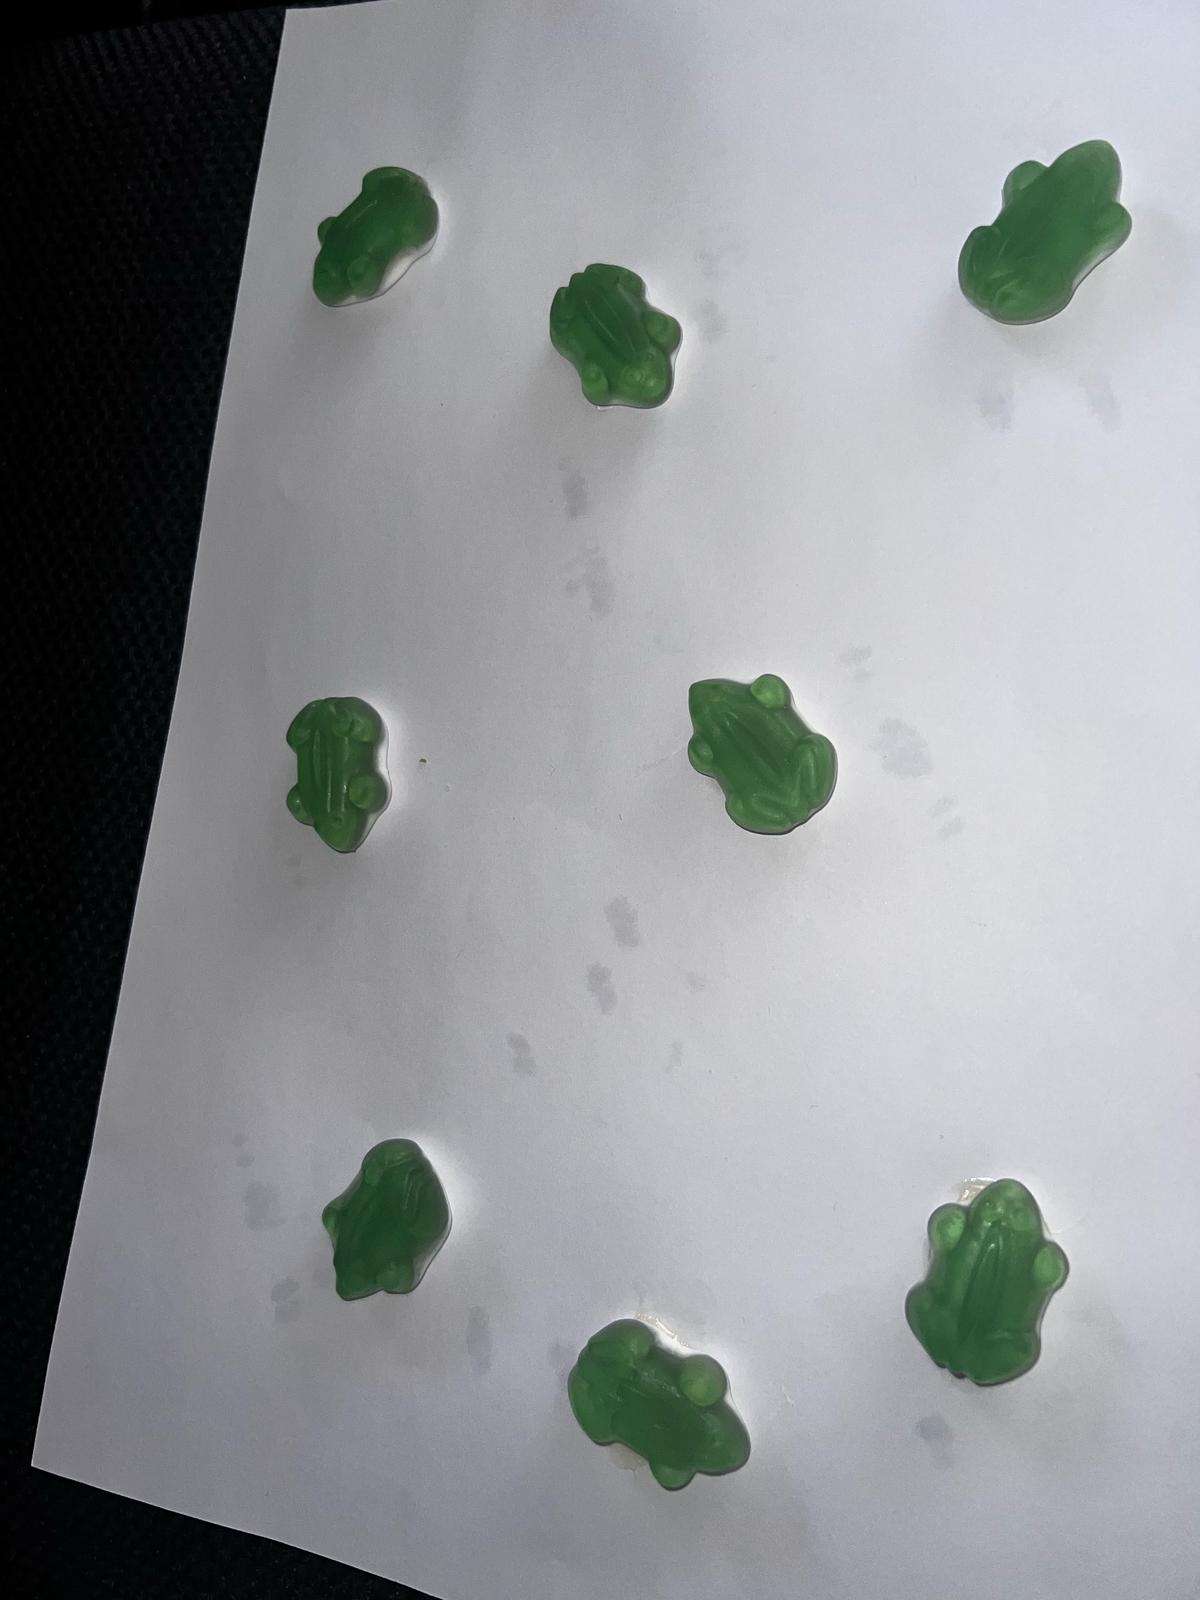frog: (899, 1179, 1076, 1393), (955, 134, 1139, 335), (566, 1308, 759, 1495), (684, 666, 841, 847), (541, 252, 692, 420), (320, 1133, 460, 1308), (305, 157, 447, 315), (281, 692, 396, 858)
